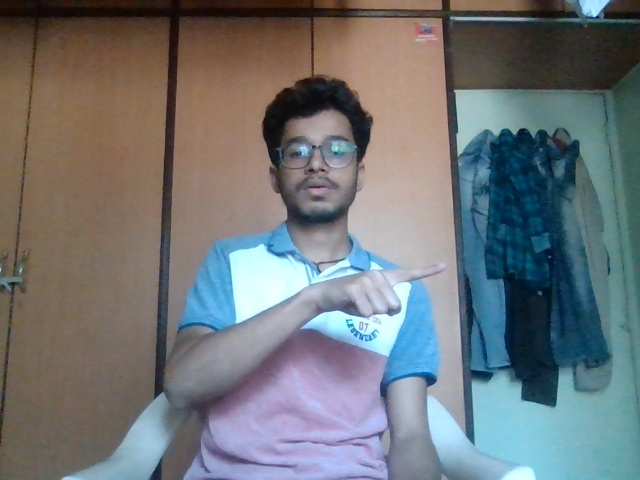you: (301, 252, 464, 343)
